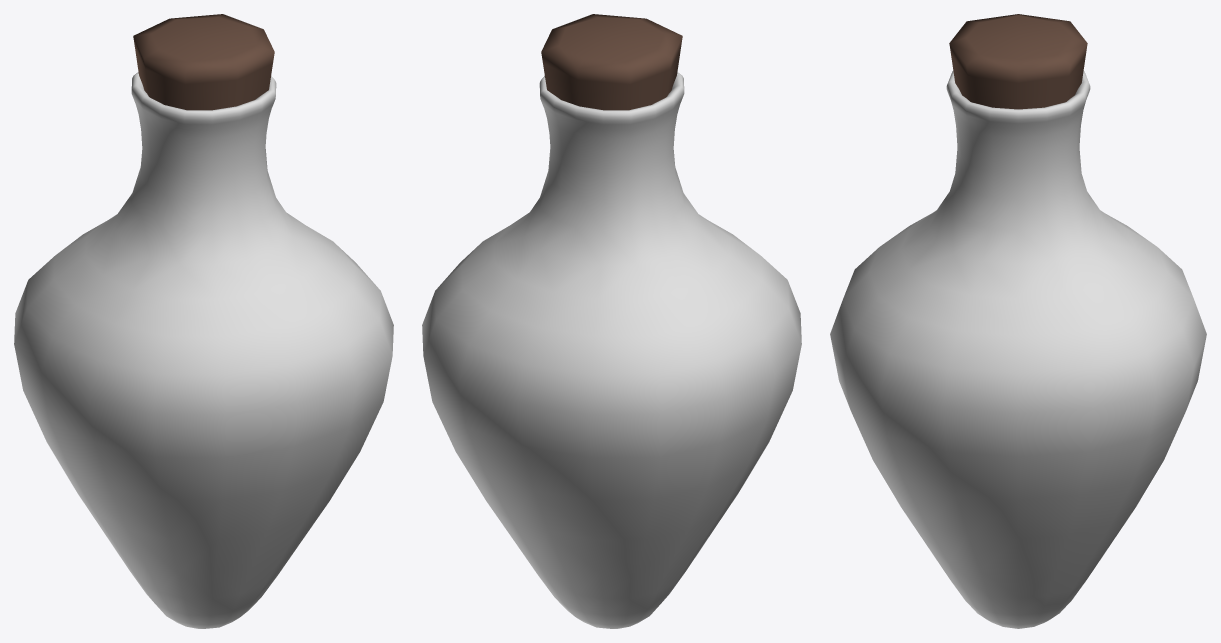
The model's file is Potion4_Filled.glb.
3 views of the same model, side by side, from view 1: azimuth 30°, elevation 25°; view 2: azimuth 150°, elevation 25°; view 3: azimuth 270°, elevation 25° (orthographic).
Visible parts, largest first — view 1: Potion4_Filled; view 2: Potion4_Filled; view 3: Potion4_Filled.
Part boxes in pixels (bbox=[...]): Potion4_Filled: bbox=[14, 14, 393, 628]; Potion4_Filled: bbox=[422, 14, 801, 628]; Potion4_Filled: bbox=[830, 14, 1206, 628].
Bounding box in the file's own units: 0.7186 × 1.24 × 0.7186.
